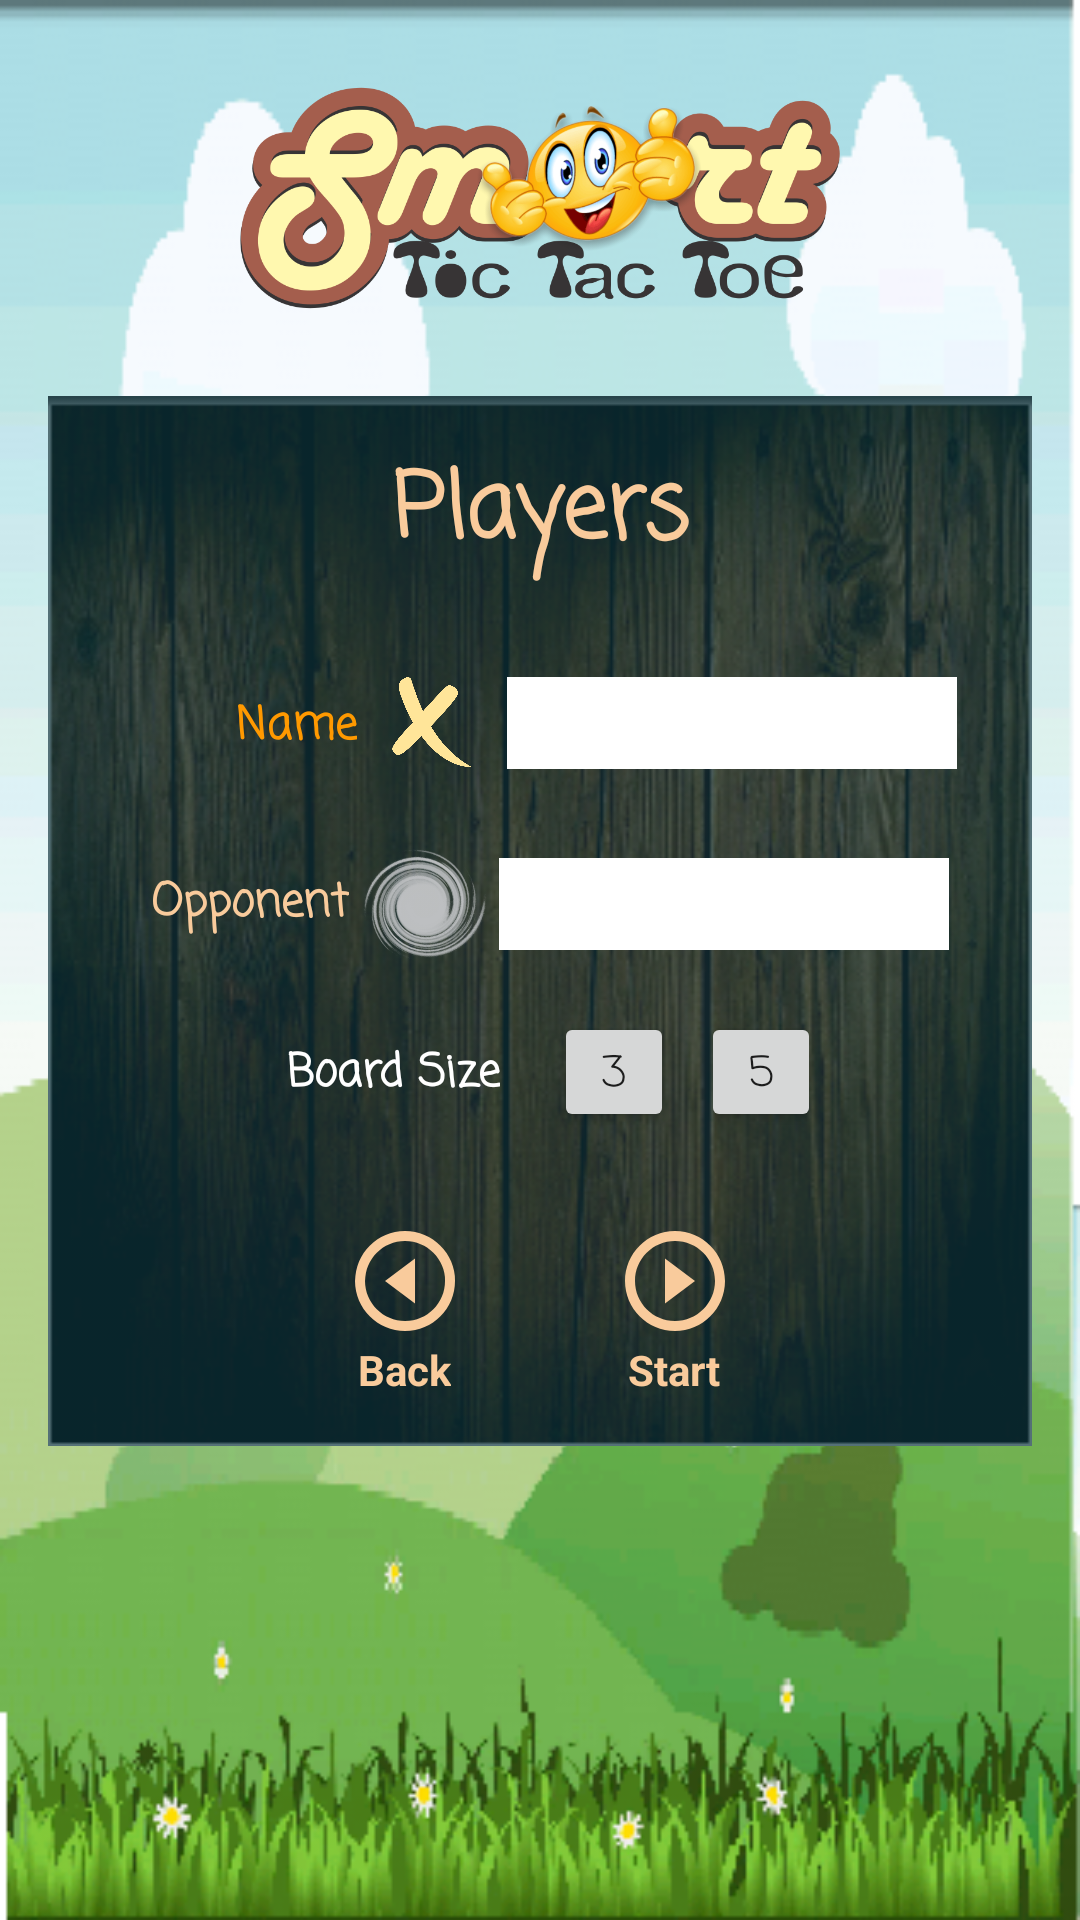

Icons on this 1080w x 1920h Android screen, each with the point to tap as (x,y):
playerone symbol: (448,722)
playertwo symbol: (431,903)
